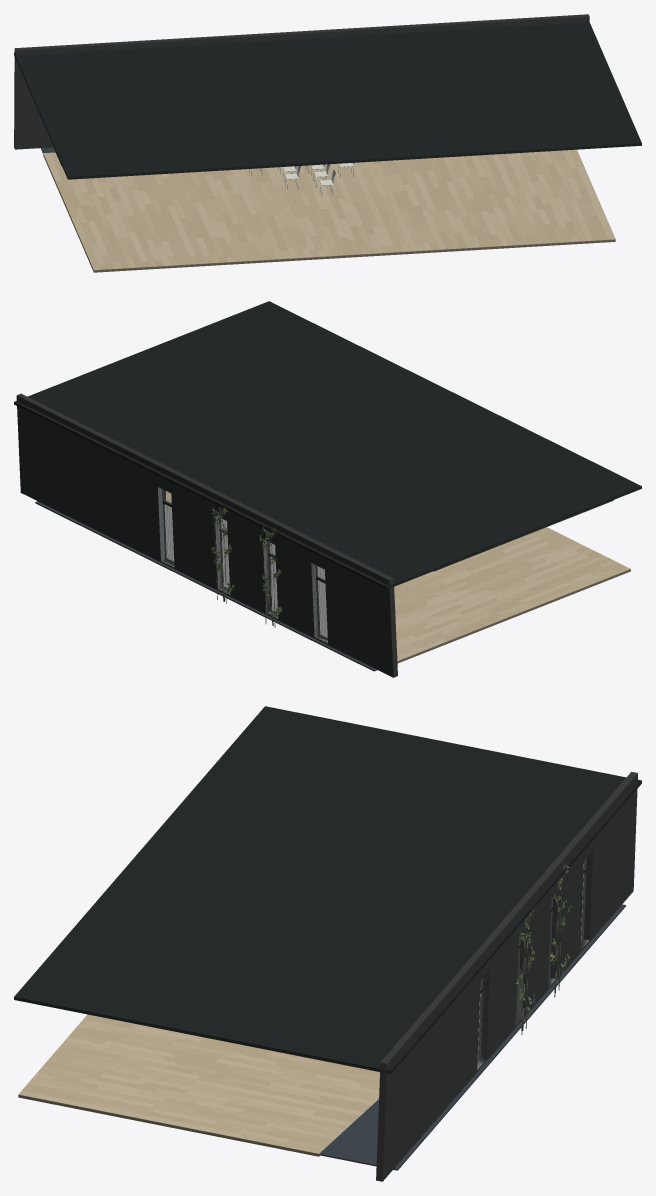
The model's file is scene-2-ours.glb.
3 renders of one model, top to bottom at view 1: azimuth 30°, elevation 25°; view 2: azimuth 150°, elevation 25°; view 3: azimuth 270°, elevation 25°, orthographic. The views are drawn at different scales.
Parts seen in each view (by area): view 1: obj_ceiling_01, individual blond floor boards, wall pier 0, obj_floor_01, obj_wall_01, wall pier 3, wall pier 1, wall pier 2; view 2: obj_ceiling_01, individual blond floor boards, obj_wall_01, wall pier 0, wall pier 3, wall pier 1, wall pier 2, obj_floor_02, obj_floor_01, obj_glass_01, obj_glass_04; view 3: obj_ceiling_01, individual blond floor boards, obj_wall_01, wall pier 0, wall pier 3, obj_floor_02, wall pier 1, wall pier 2, obj_floor_01.
Boxes of the visible parts, x1,y1,x2,y2 form: obj_ceiling_01: (14, 22, 641, 179); individual blond floor boards: (43, 149, 615, 270); wall pier 0: (14, 42, 116, 149); obj_floor_01: (43, 154, 615, 272); obj_wall_01: (373, 14, 589, 34); wall pier 3: (285, 28, 352, 39); wall pier 1: (136, 37, 192, 48); wall pier 2: (211, 33, 266, 44); obj_ceiling_01: (14, 301, 641, 589); individual blond floor boards: (166, 491, 630, 660); obj_wall_01: (16, 393, 160, 562); wall pier 0: (324, 546, 397, 677); wall pier 3: (170, 470, 222, 590); wall pier 1: (274, 521, 318, 638); wall pier 2: (226, 497, 270, 613); obj_floor_02: (35, 501, 377, 671); obj_floor_01: (397, 540, 630, 663); obj_glass_01: (316, 566, 327, 638); obj_glass_04: (162, 490, 173, 562); obj_ceiling_01: (14, 706, 641, 1074); individual blond floor boards: (18, 1014, 379, 1153); obj_wall_01: (376, 953, 481, 1181); wall pier 0: (583, 771, 637, 941); wall pier 3: (480, 908, 519, 1061); obj_floor_02: (319, 904, 625, 1170); wall pier 1: (550, 833, 584, 980); wall pier 2: (519, 871, 552, 1017); obj_floor_01: (18, 1068, 344, 1156).
Bounding box in the file's own units: 12.47 × 2.37 × 9.67.
